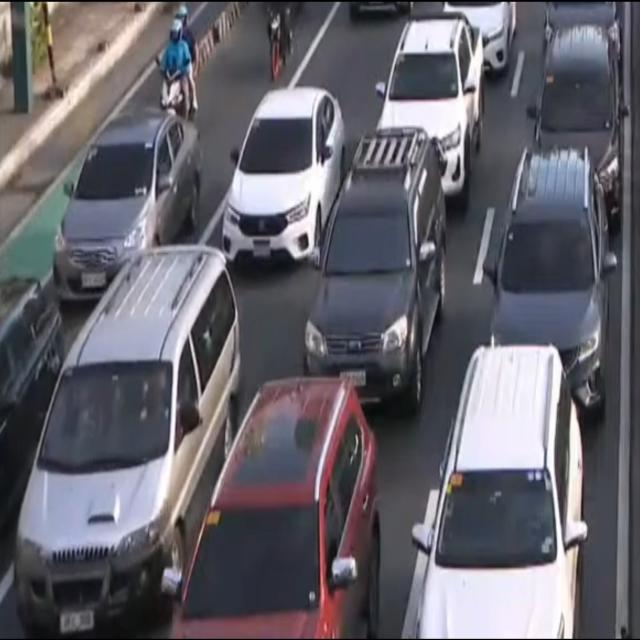Motorcycle: (150, 6, 202, 129), (257, 0, 295, 89)
SUV: (411, 343, 589, 640), (177, 380, 380, 640), (302, 129, 450, 413), (488, 146, 612, 424), (372, 21, 486, 197), (0, 278, 68, 539)
Sedan: (44, 110, 207, 300), (217, 86, 346, 271), (530, 27, 623, 237)
Van: (11, 246, 239, 640)
